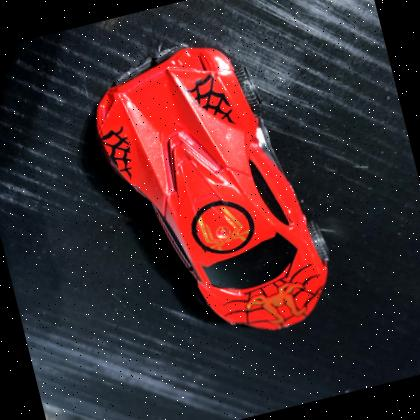Car: (93, 45, 329, 329)
